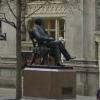Statue: (21, 9, 79, 76)
